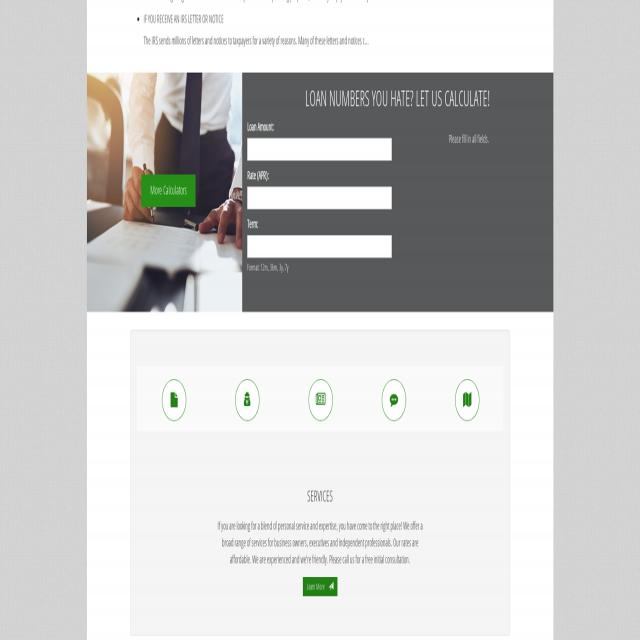button: (141, 175, 196, 207), (308, 379, 333, 421), (162, 379, 186, 421), (235, 379, 259, 421), (382, 379, 406, 421), (455, 379, 479, 421), (302, 577, 338, 597)
field: (247, 138, 392, 161), (247, 235, 392, 258), (247, 187, 392, 209)
